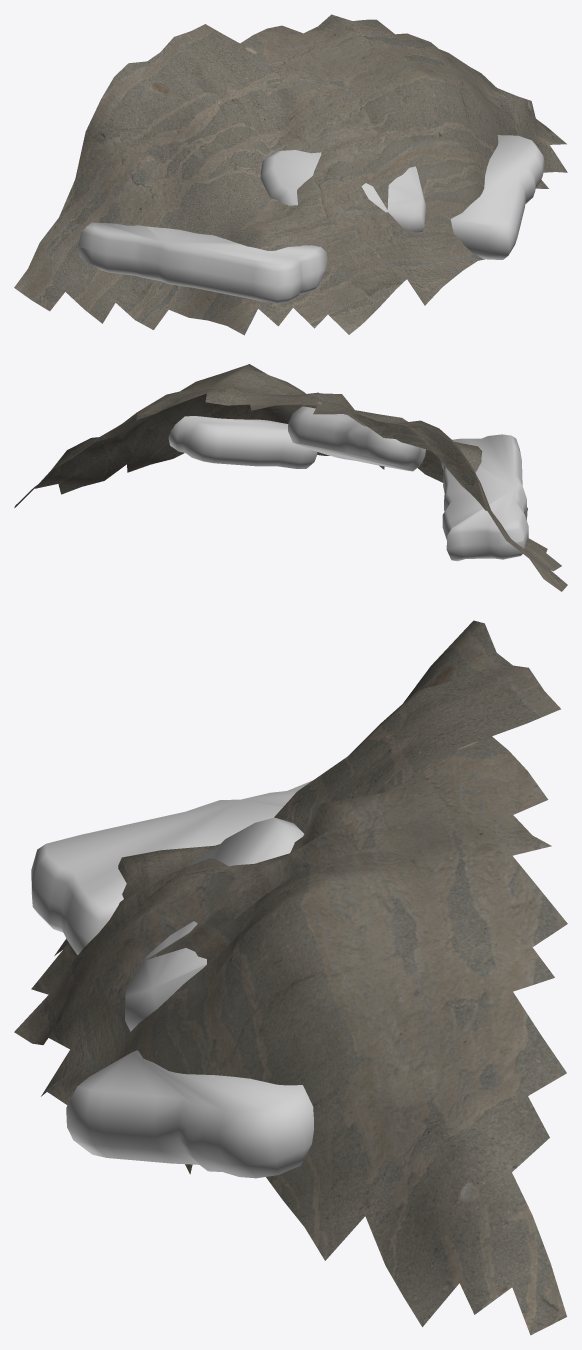
File: SD2_Heap_2.fbx
3 views of the same model, one above another, from view 1: azimuth 30°, elevation 25°; view 2: azimuth 150°, elevation 25°; view 3: azimuth 270°, elevation 25° (orthographic). The views are drawn at different scales.
Visible parts, largest first — view 1: SD2_heap_2; view 2: SD2_heap_2; view 3: SD2_heap_2.
Part boxes in pixels (x1,y1,x2,y2): SD2_heap_2: (14, 14, 567, 335); SD2_heap_2: (14, 364, 567, 591); SD2_heap_2: (14, 620, 567, 1335).
Bounding box in the file's own units: 160 × 76.35 × 53.42.
